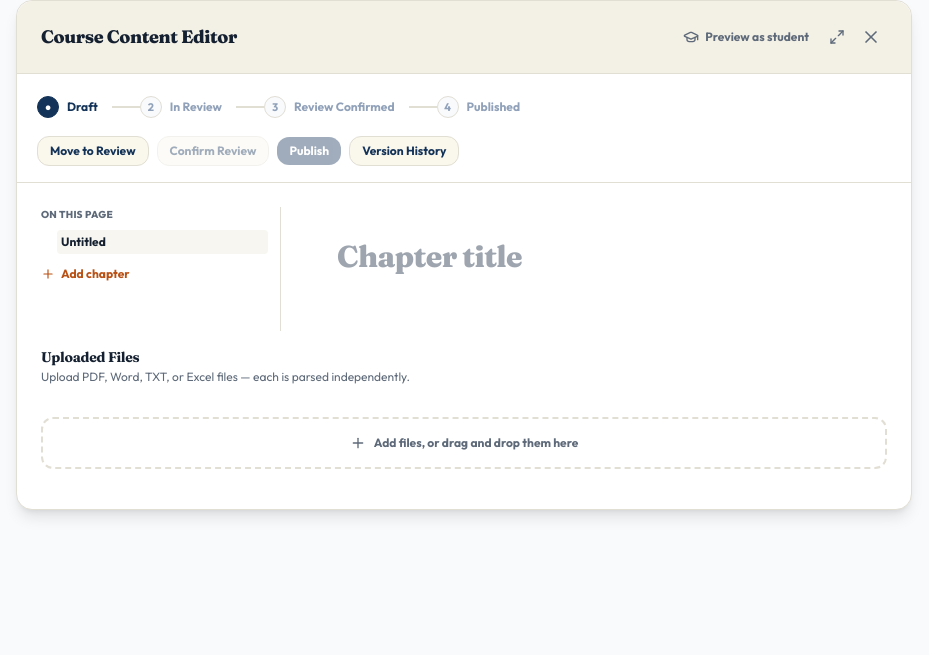
Test: CourseContentEditor -- Topic/Sub-Topic structure (Story 7.2) › typing a bare "/" opens the slash menu with at least the always-available Paragraph command
Type "/" into the field at (592,269), box left=337, top=239, right=847, bottom=299
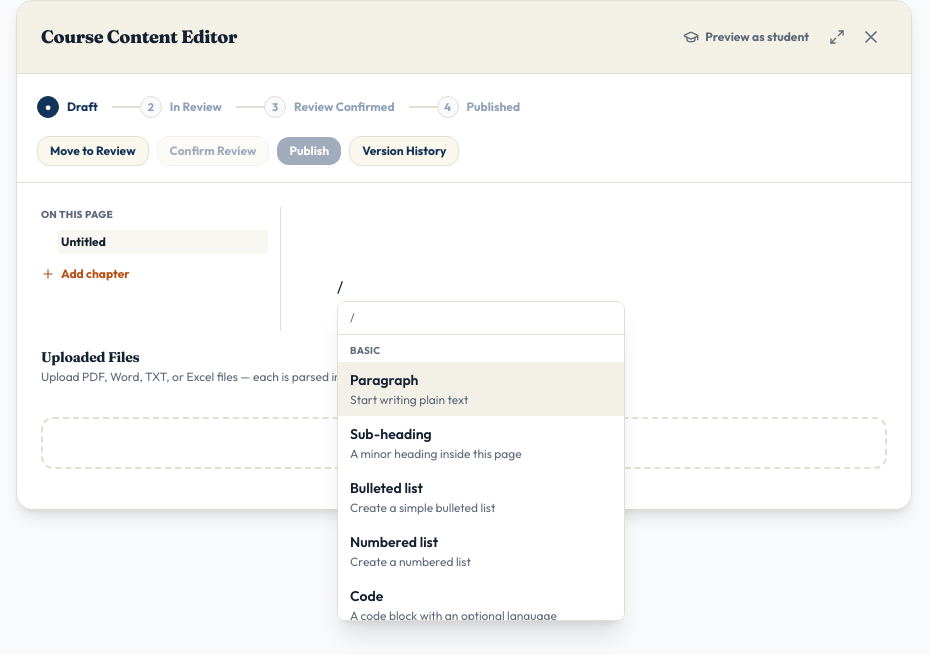
Result: the option "Paragraph Start writing plain text" is shown at left=338, top=362, right=624, bottom=416
Result: the text "Paragraph" is shown at left=350, top=370, right=418, bottom=390
